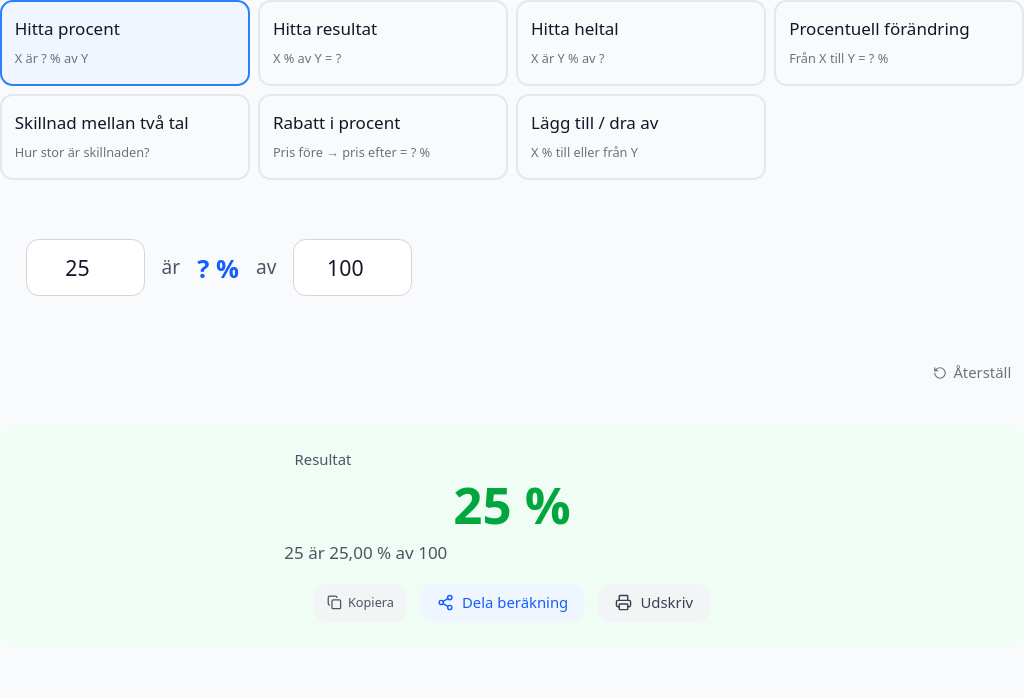
Test case: ProcentBeregner › svensk tillaeg-tilstand bruger svenske ord
Click the radio button labelled "Lägg till / dra av X % till eller från Y": click(641, 137) [516, 94, 766, 180]
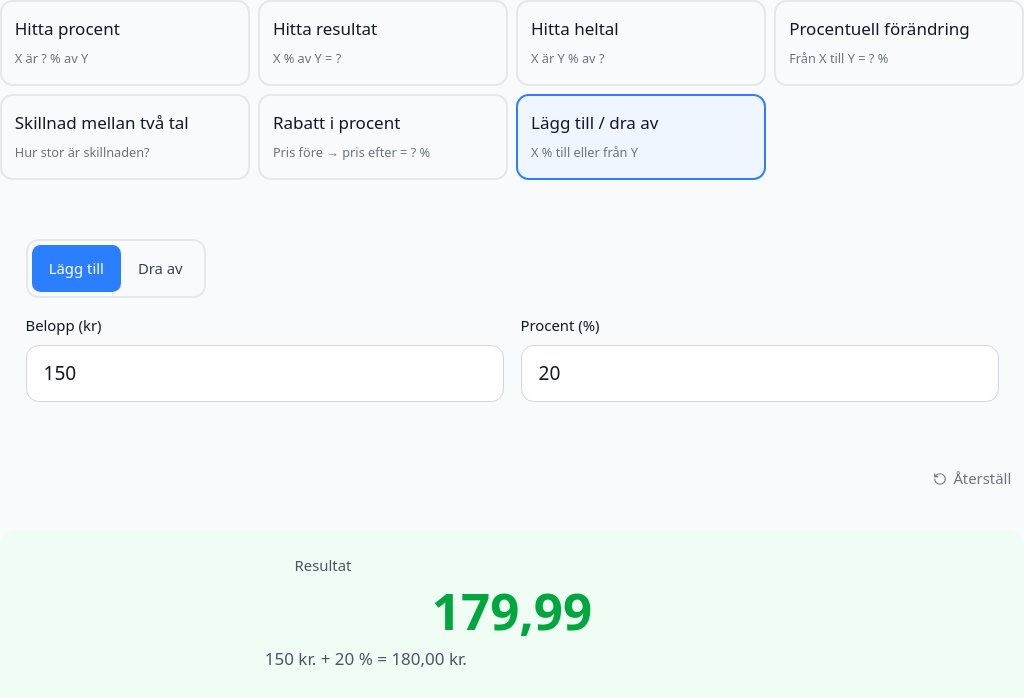
Now the button "Lägg till" is shown, box [32, 245, 121, 292]
Now the button "Dra av" is shown, box [121, 245, 200, 292]
Now the number field labelled "Belopp (kr)" is shown, box [26, 345, 504, 402]
